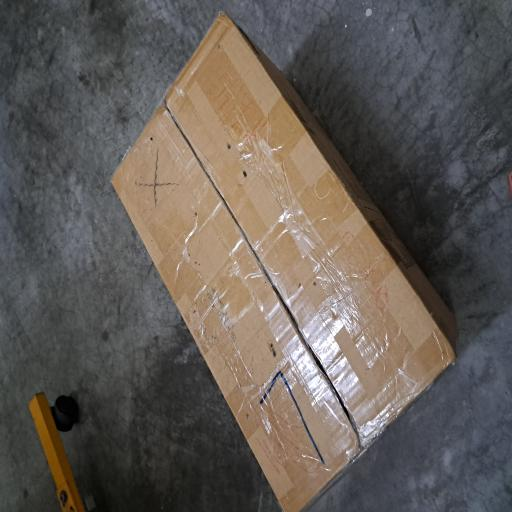cardboard: (0, 149, 377, 512)
